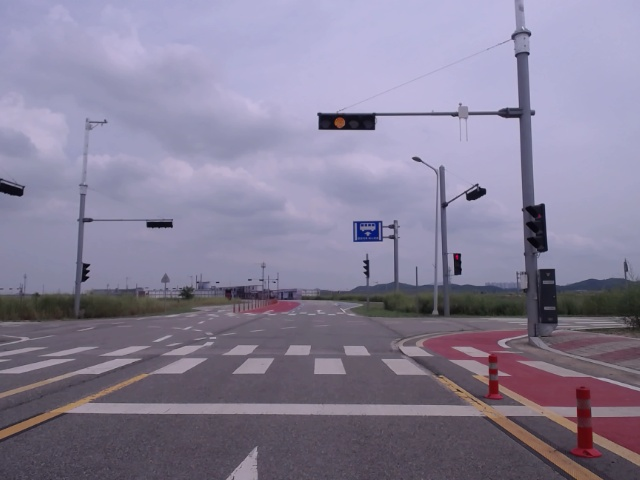orange_4: (317, 112, 378, 131)
